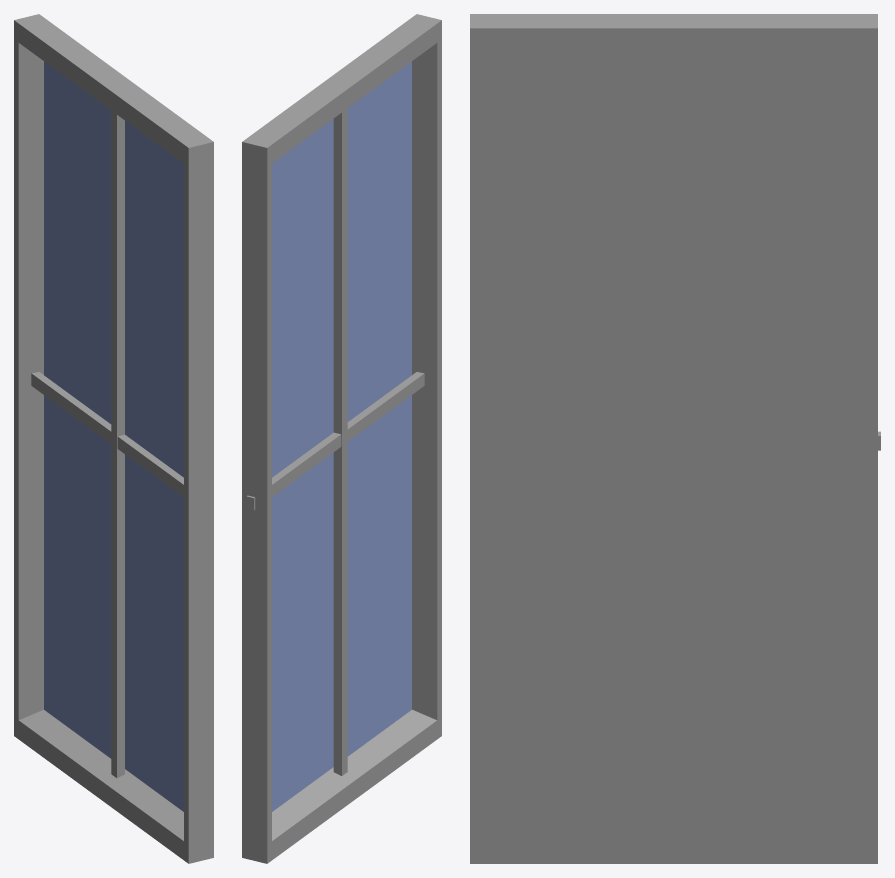
The model's file is N_House_Window_Small.fbx.
3 views of the same model, side by side, from view 1: azimuth 30°, elevation 25°; view 2: azimuth 150°, elevation 25°; view 3: azimuth 270°, elevation 25° (orthographic). The views are drawn at different scales.
Visible parts, largest first — view 1: N_House_Window_Small; view 2: N_House_Window_Small; view 3: N_House_Window_Small.
Boxes of the visible parts, box(x1,y1,x2,y2) form: N_House_Window_Small: box(14, 14, 213, 863); N_House_Window_Small: box(242, 14, 441, 863); N_House_Window_Small: box(470, 14, 880, 863).
Size of the model in its own units: 4.7 by 128 by 56.92.
